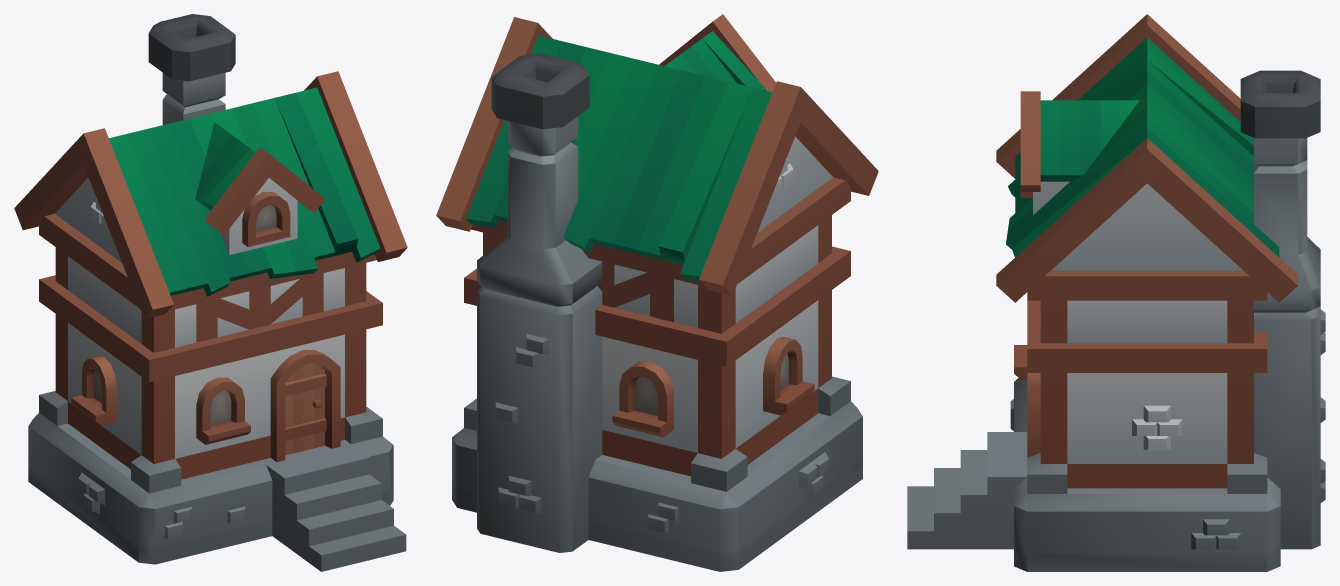
The model's file is H_home_B_green.glb.
The picture shows the model from 3 angles, left to right: view 1: azimuth 30°, elevation 25°; view 2: azimuth 150°, elevation 25°; view 3: azimuth 270°, elevation 25°; orthographic projection. The views are drawn at different scales.
Parts seen in each view (by area): view 1: building_home_B_green; view 2: building_home_B_green; view 3: building_home_B_green.
Part boxes in pixels (x1=…): building_home_B_green: x1=14, y1=14, x2=407, y2=571; building_home_B_green: x1=436, y1=14, x2=878, y2=571; building_home_B_green: x1=907, y1=14, x2=1325, y2=571.
Size of the model in its own units: 0.8749 by 1.28 by 1.1.
